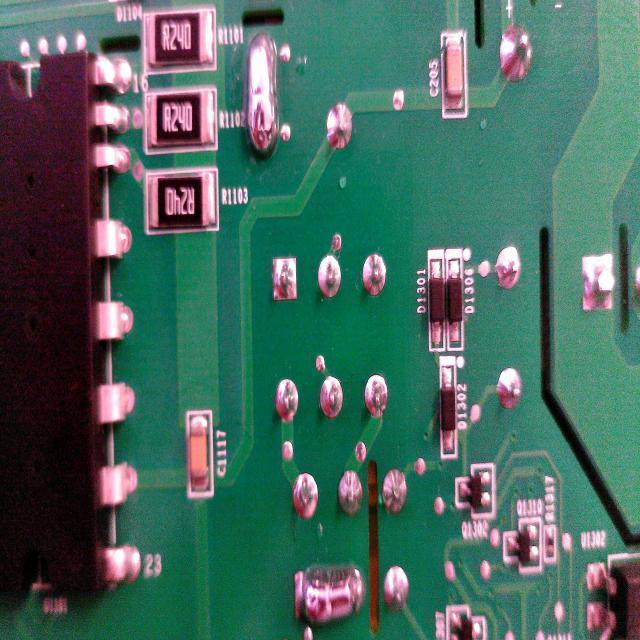Soldering shorted: (246, 26, 281, 166), (292, 565, 364, 632)
